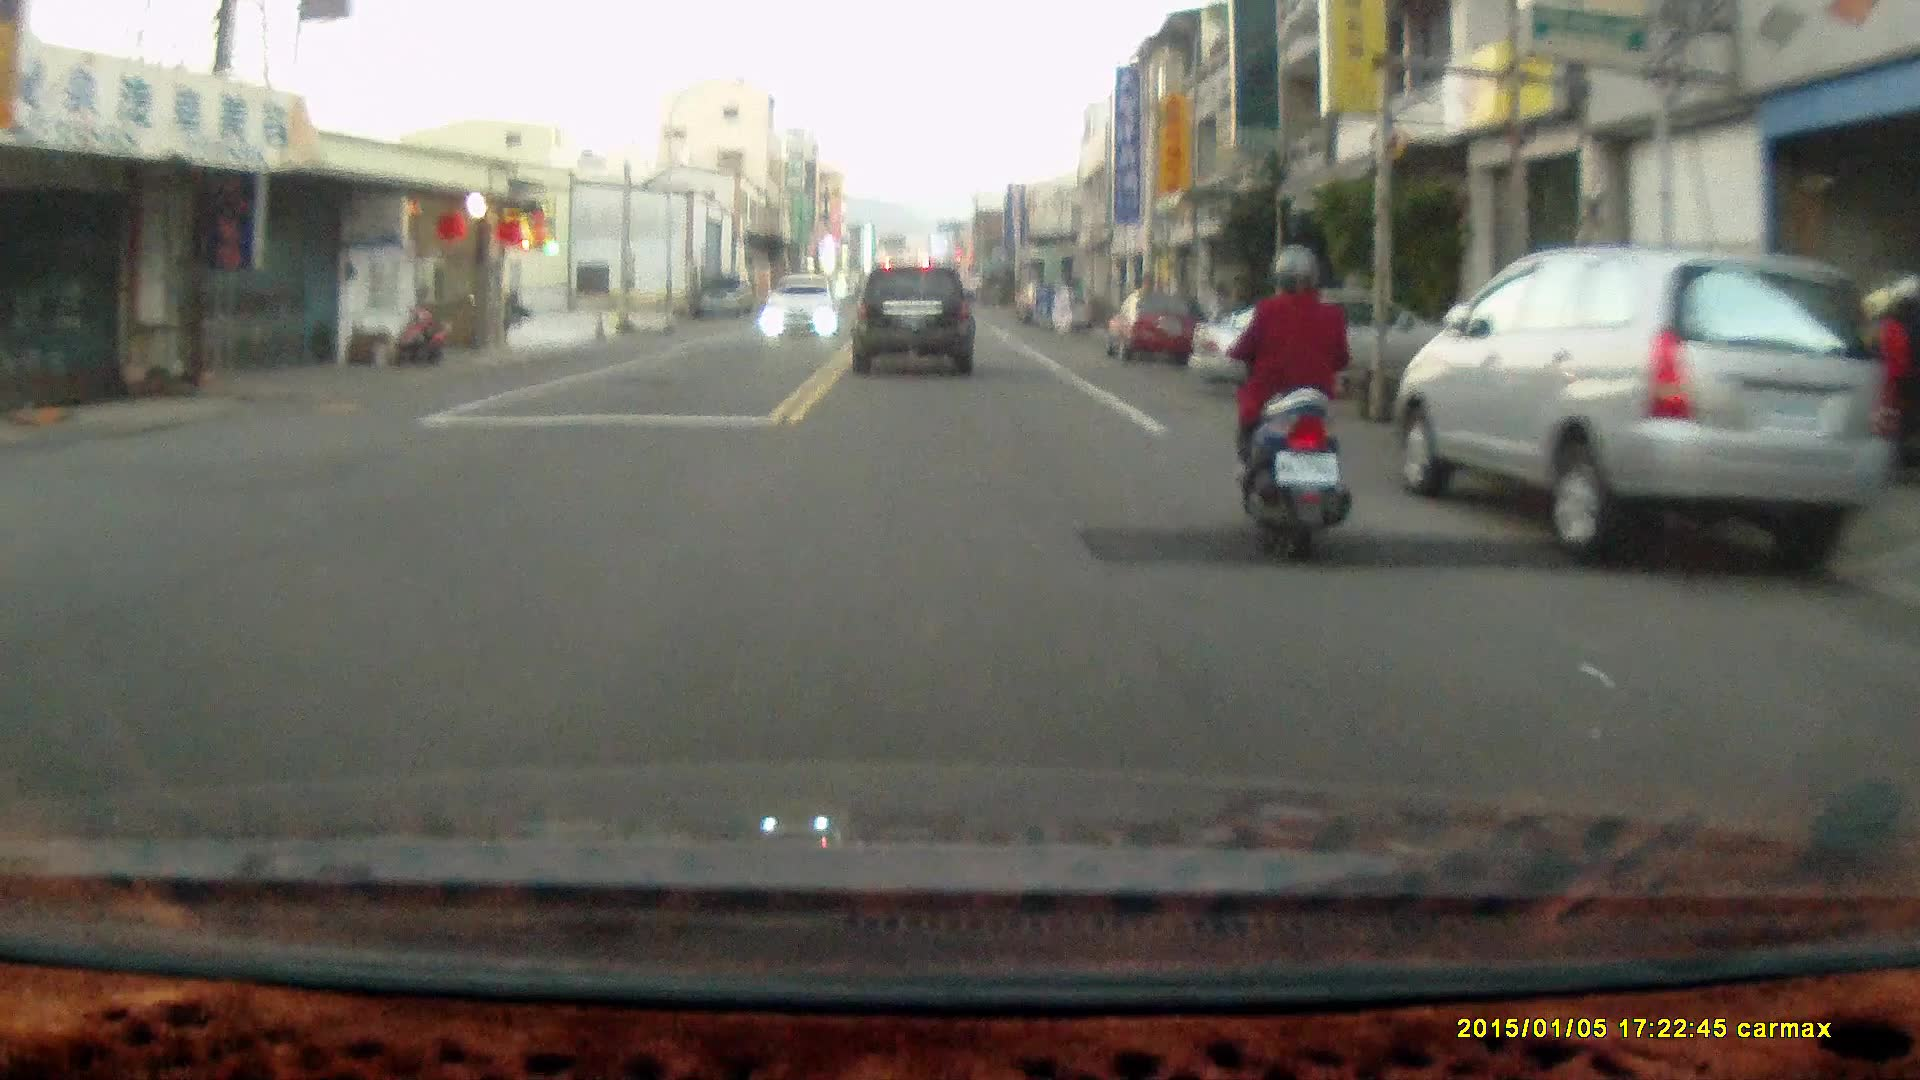rider: (1207, 247, 1354, 562), (1856, 276, 1920, 486)
vehicle: (1397, 248, 1901, 576), (1190, 292, 1438, 401), (851, 260, 981, 380), (1105, 291, 1208, 368), (763, 277, 841, 336), (697, 275, 756, 320)
